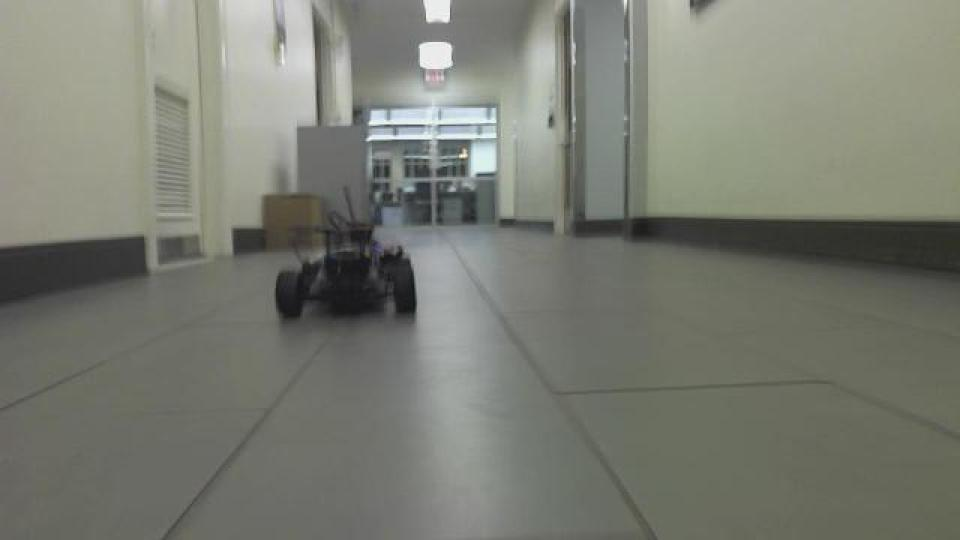car: (270, 213, 418, 323)
